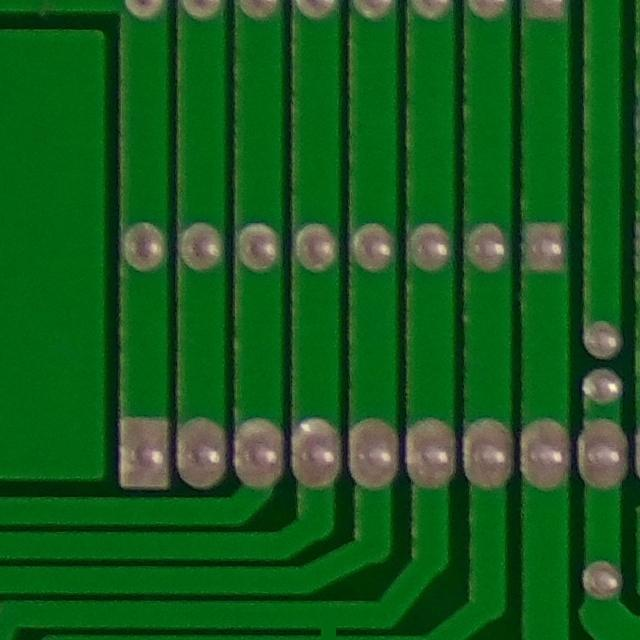short: (290, 590, 366, 640)
